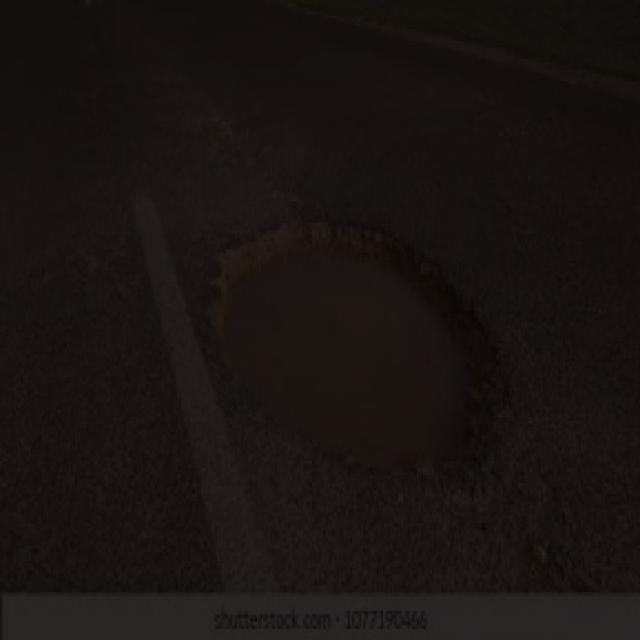Pothole: (200, 206, 502, 510)
